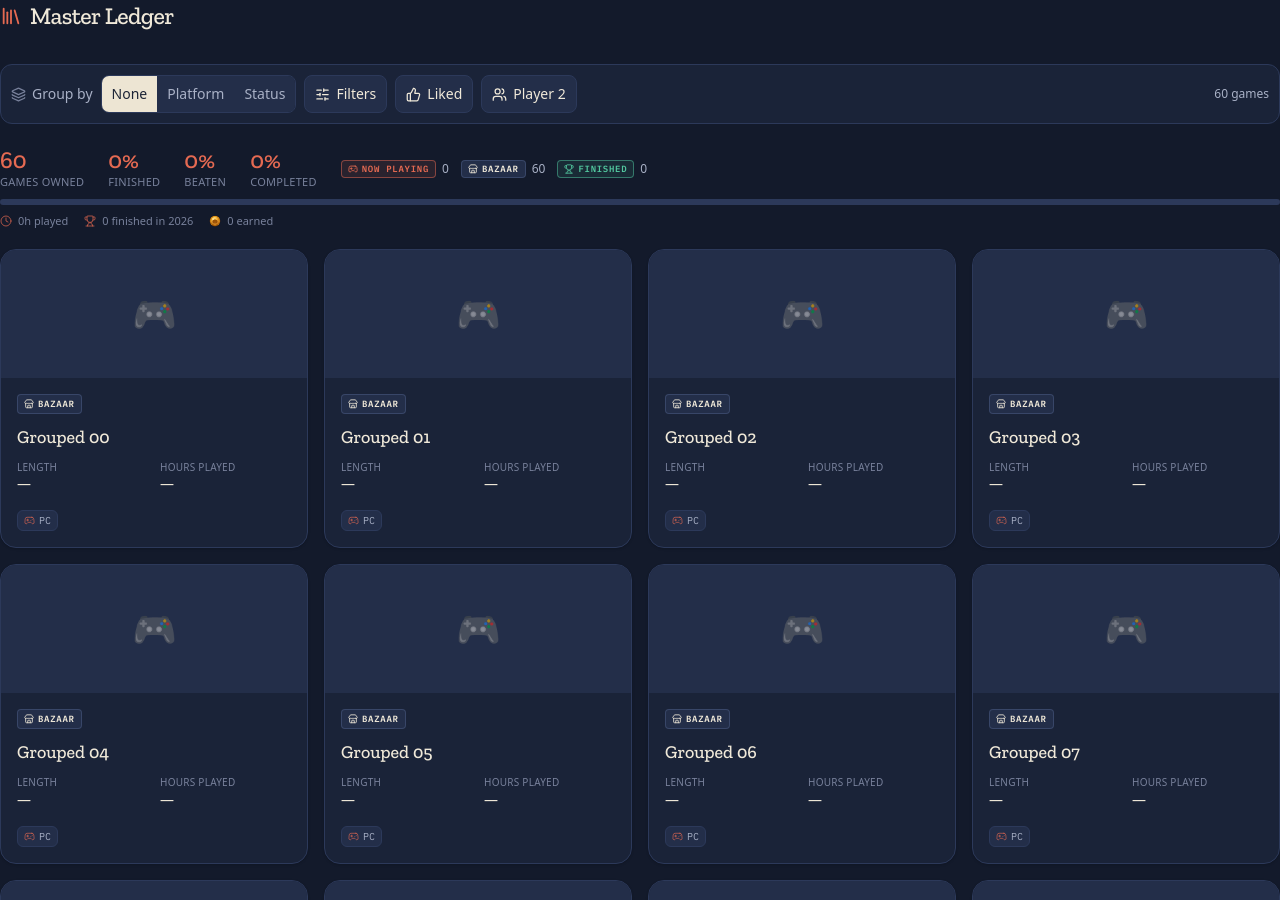
Master Ledger paging (86dce059 — reveal a page of rows at a time) › keeps a partially revealed group's badge at its full size
What coordinates should you click on to do the following:
click the button "Platform"
I would click on:
 (196, 94)
Its box is [157,76,234,112].
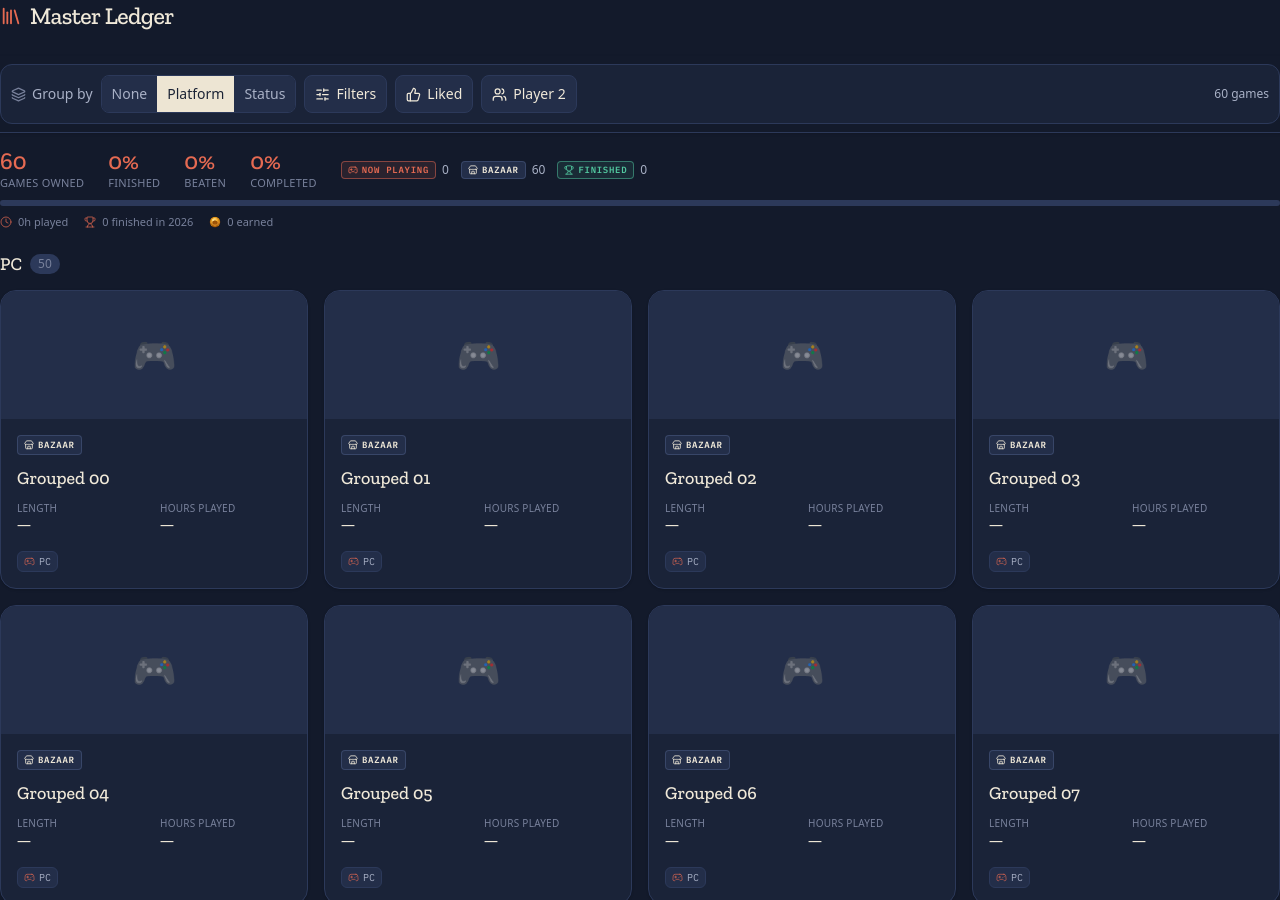
expect the text "50" is shown: met, box [30,254,60,274]
